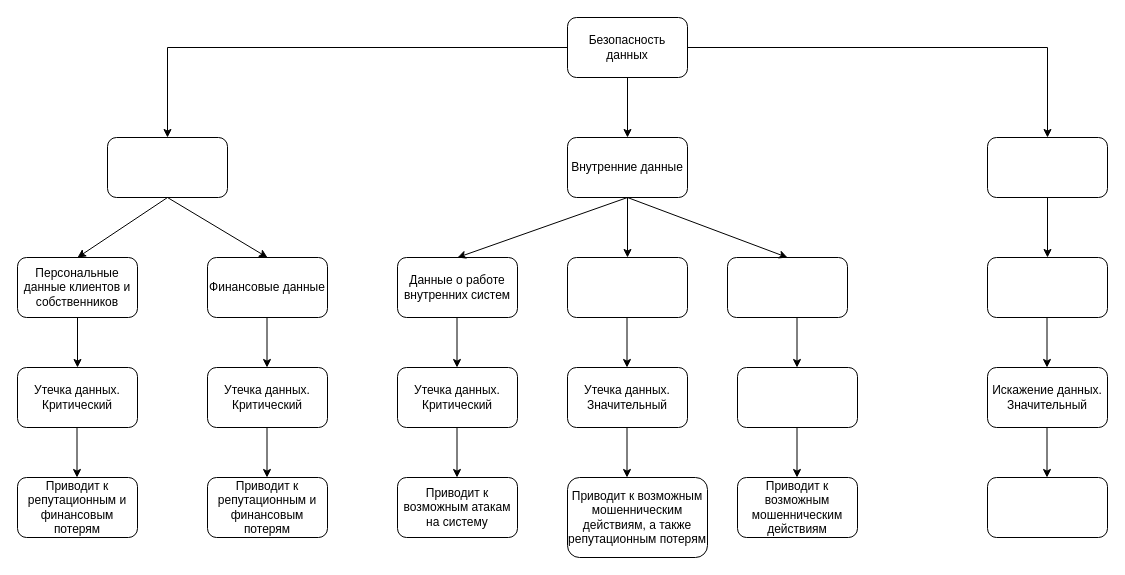
This 1125x575 diagram has some shape labels left out. Here are the shapes that lost their labels. From the top down, the centre of each, then its label:
the point at 167,167: Конфиденциальные данные
the point at 1047,167: Публичные данные
the point at 627,287: Данные о привязках УК к пользователям
the point at 787,287: Данные по работам УК
the point at 1047,287: Данные об объектах недвижимости
the point at 797,397: Утечка данных. Незначительный
the point at 1047,507: Приводит к репутационным потерям
